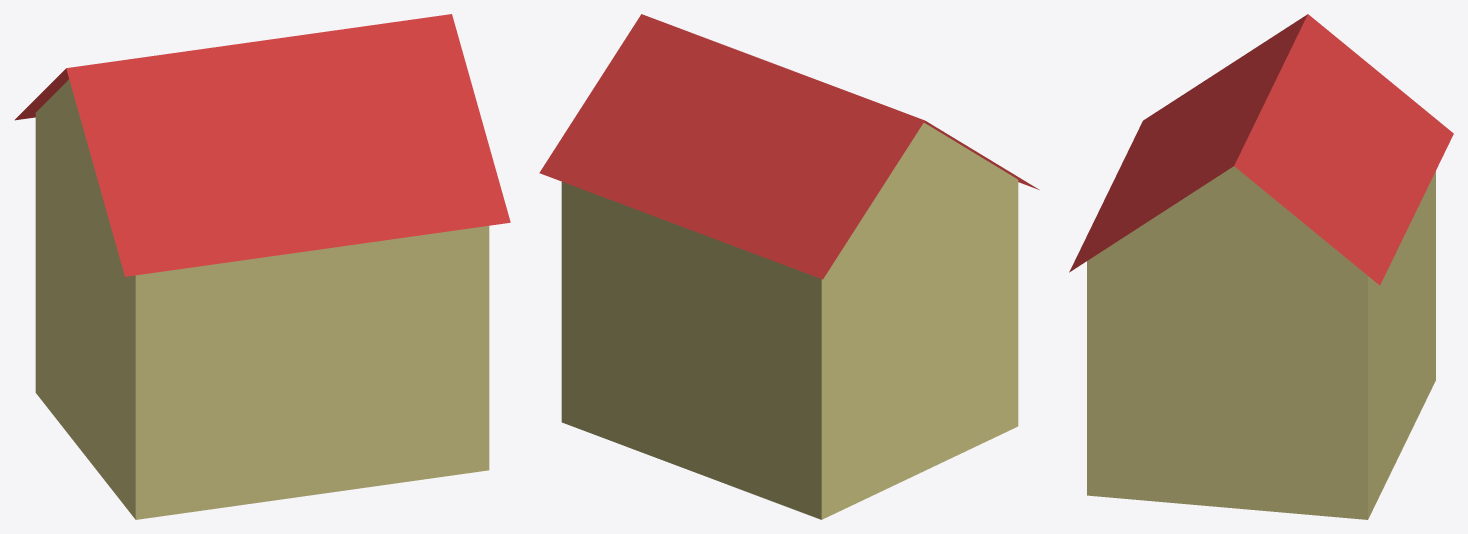
The picture shows the model from 3 angles, left to right: view 1: azimuth 30°, elevation 25°; view 2: azimuth 150°, elevation 25°; view 3: azimuth 270°, elevation 25°; orthographic projection. The views are drawn at different scales.
Size of the model in its own units: 13.78 by 12.52 by 12.52.
